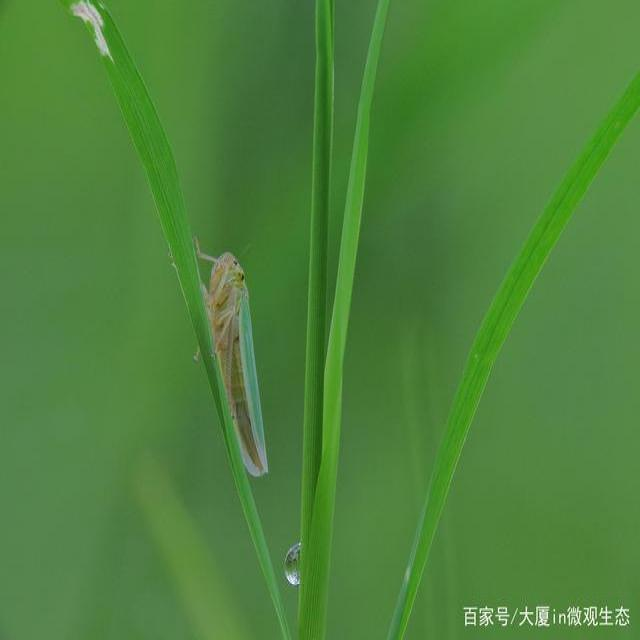Yechan: (188, 233, 278, 483)
